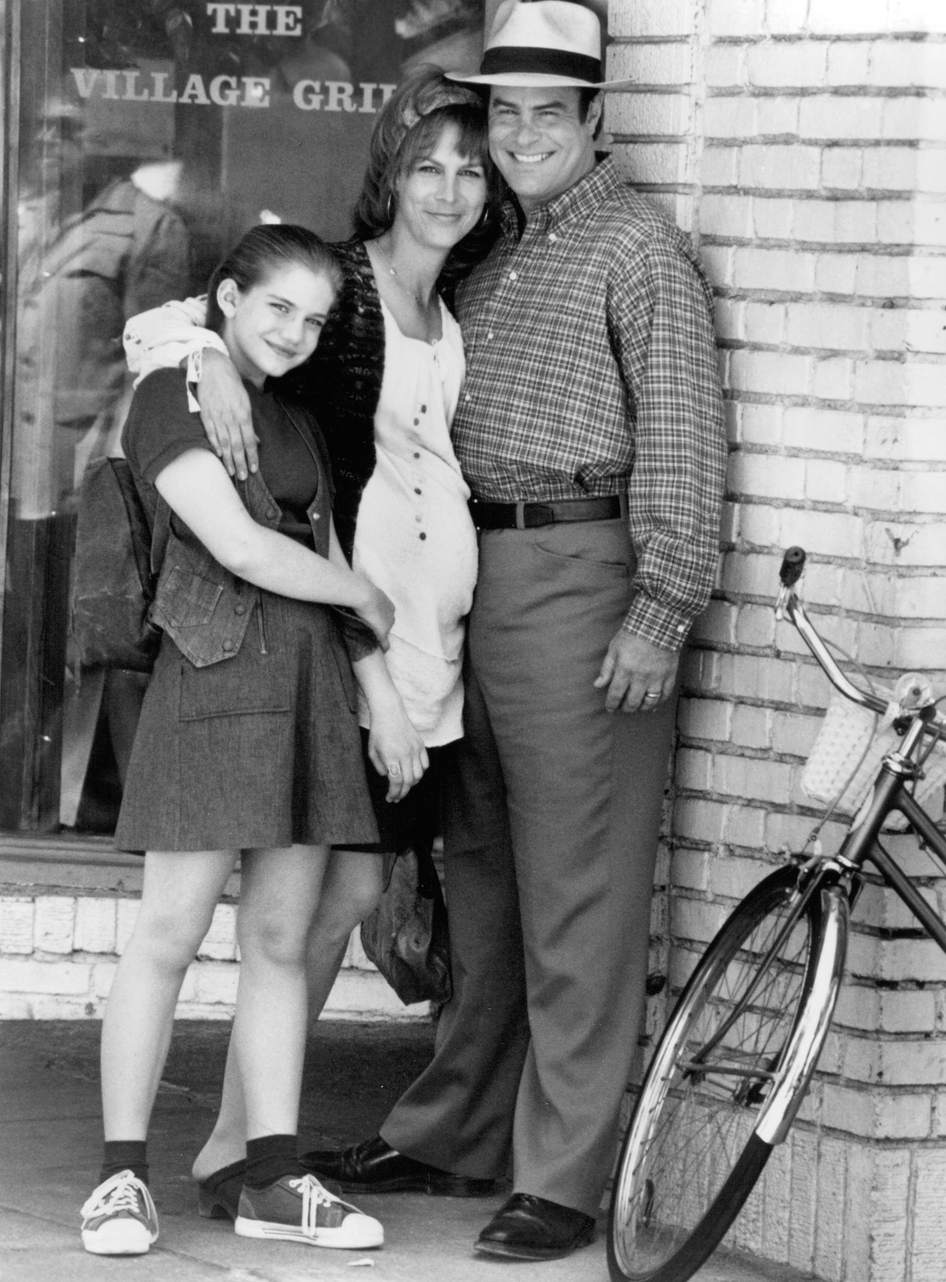15: (224, 250, 346, 392)
37: (384, 99, 502, 266)
38: (470, 46, 600, 217)
Bag: (63, 453, 173, 675), (353, 838, 455, 1007)
Belt: (457, 490, 638, 533)
Dress: (262, 228, 484, 861), (110, 366, 382, 860)
EarRing: (472, 200, 491, 235), (385, 189, 395, 221)
Female: (384, 99, 502, 266), (224, 250, 346, 392)
Hair Band: (388, 83, 489, 160)
Hat: (439, 3, 654, 102)
Joggers: (233, 1174, 385, 1253), (78, 1165, 160, 1258)
Male: (470, 46, 600, 217)
Necklace: (369, 231, 441, 322)
Pants: (375, 496, 703, 1222)
Ring: (385, 762, 402, 779), (643, 690, 664, 700)
Shirt: (441, 143, 744, 652)
Shoes: (295, 1135, 500, 1198), (467, 1189, 599, 1262), (190, 1149, 252, 1221)
Socks: (241, 1133, 304, 1192), (99, 1140, 153, 1190)
